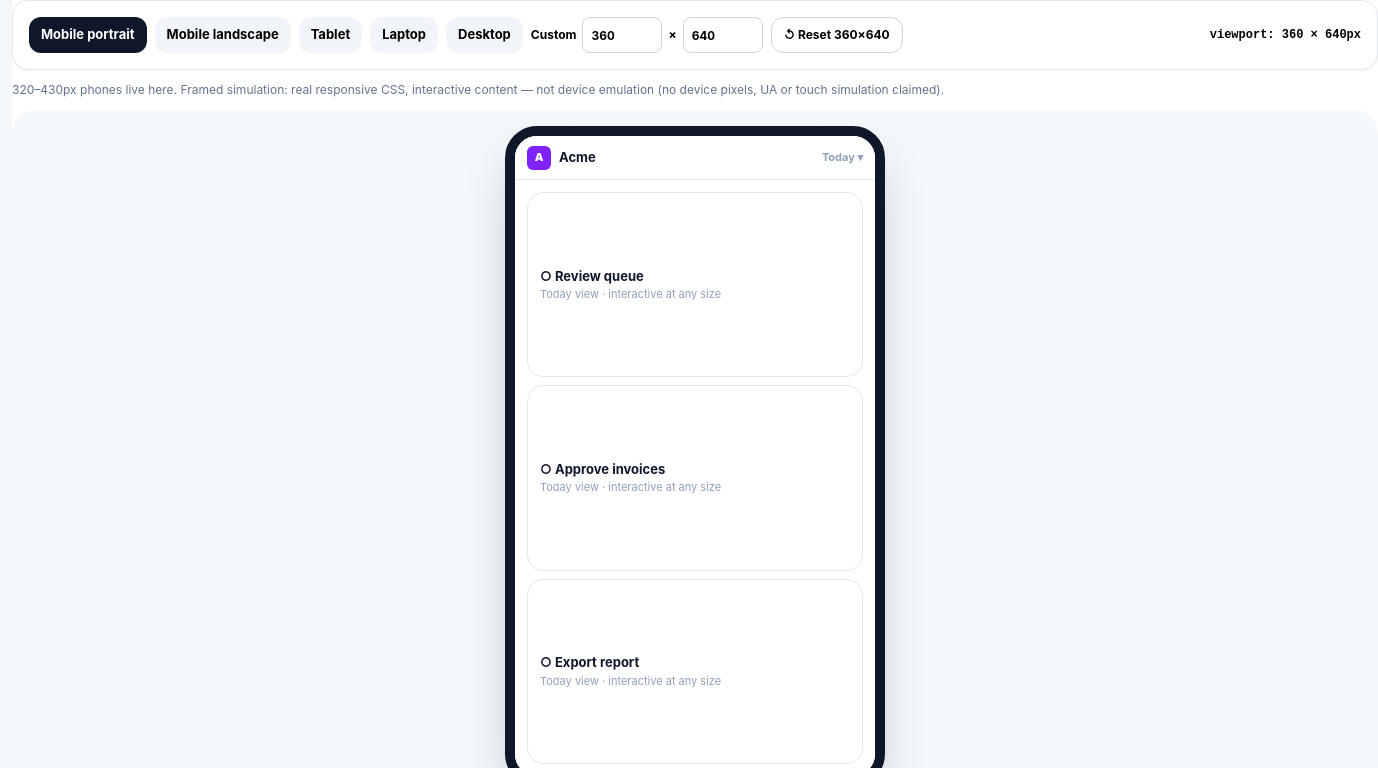
Test: device preview › presets, custom sizes and reset all update dimensions
This screenshot has width=1378, height=768.
Check: the text "viewport: 360 × 640px" is shown, box left=1210, top=27, right=1361, bottom=43
Click the button "Tablet" at (330, 35), box left=299, top=17, right=362, bottom=53
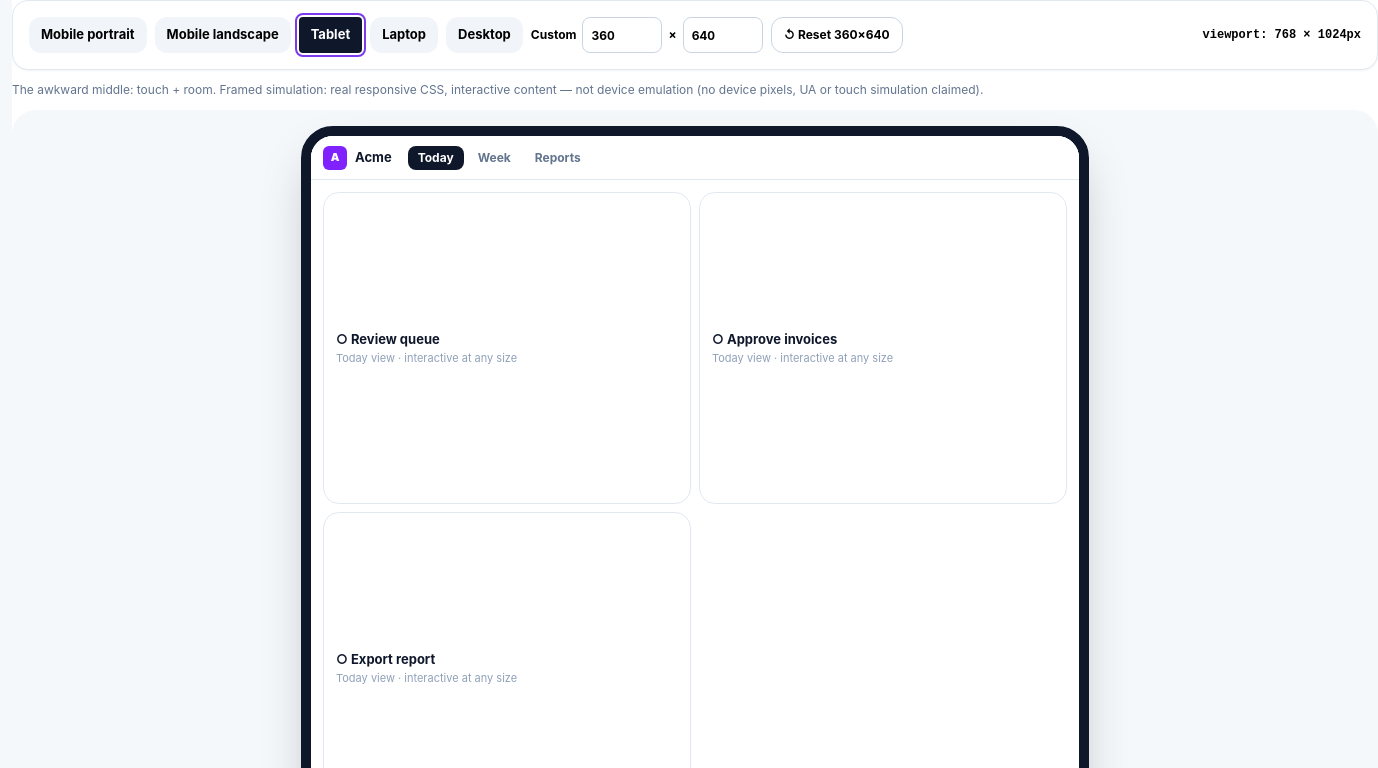
Check: the text "viewport: 768 × 1024px" is shown, box left=1202, top=27, right=1361, bottom=43
Replace the text in the 1st number field named "Custom width" with "500" at (622, 35), box left=582, top=17, right=662, bottom=53
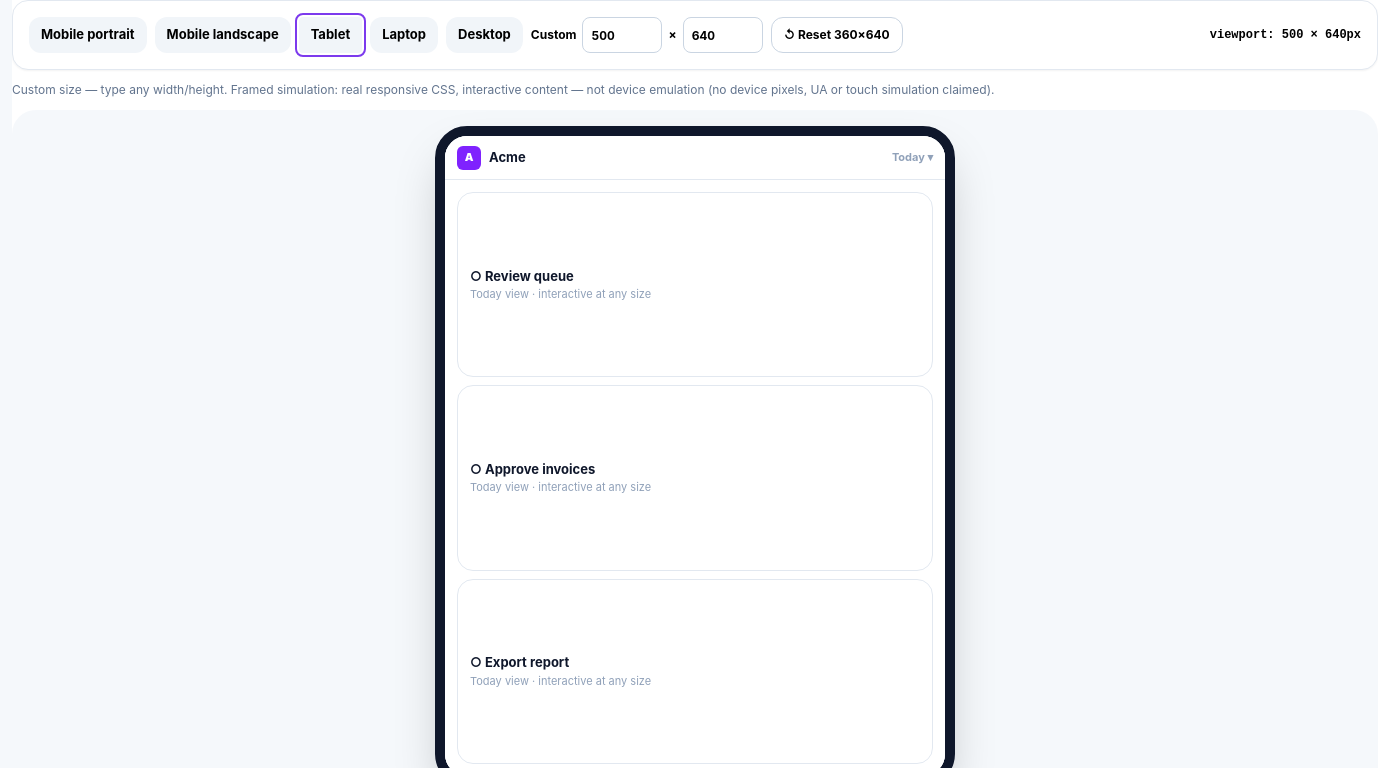
Check: the text "viewport: 500 × 640px" is shown, box left=1210, top=27, right=1361, bottom=43
Click the button "↺ Reset 360×640" at (837, 35), box left=771, top=17, right=903, bottom=53
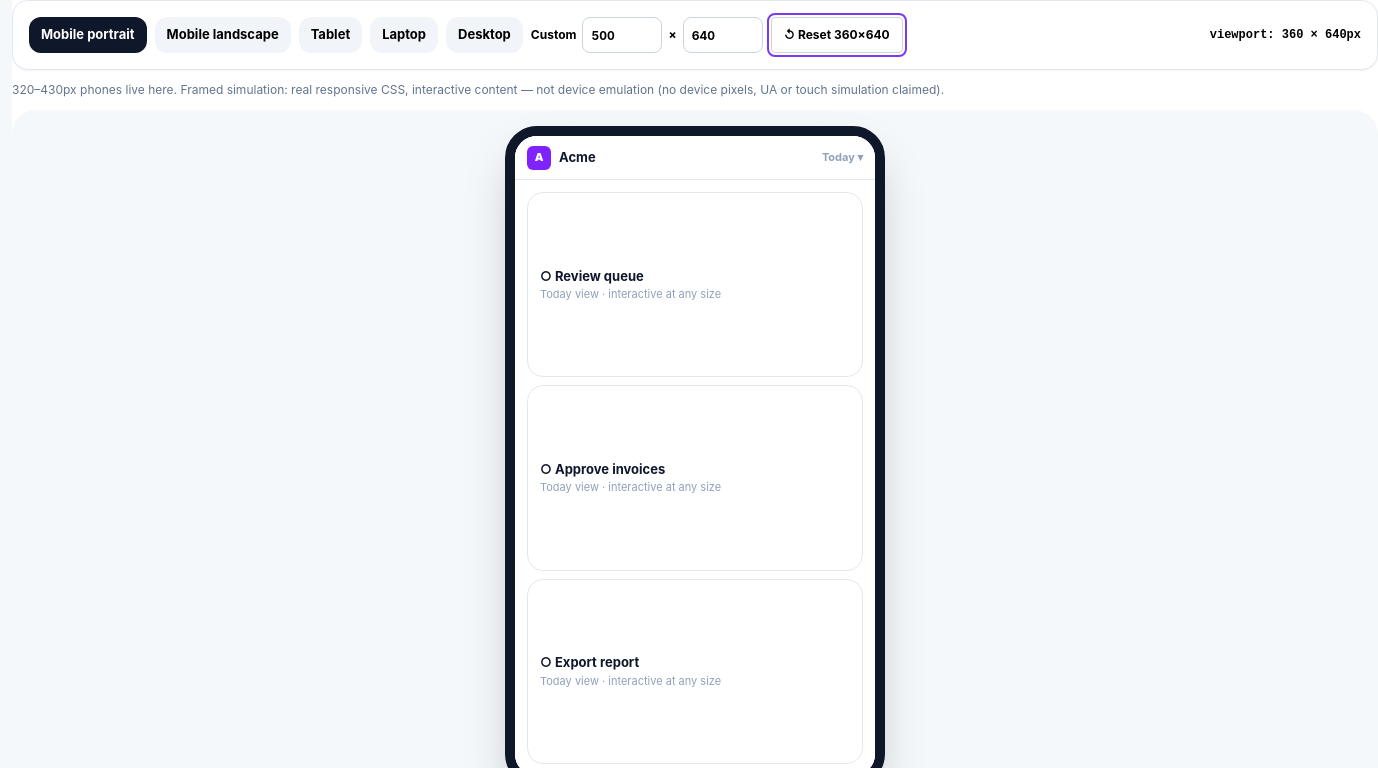
Check: the text "viewport: 360 × 640px" is shown, box left=1210, top=27, right=1361, bottom=43
